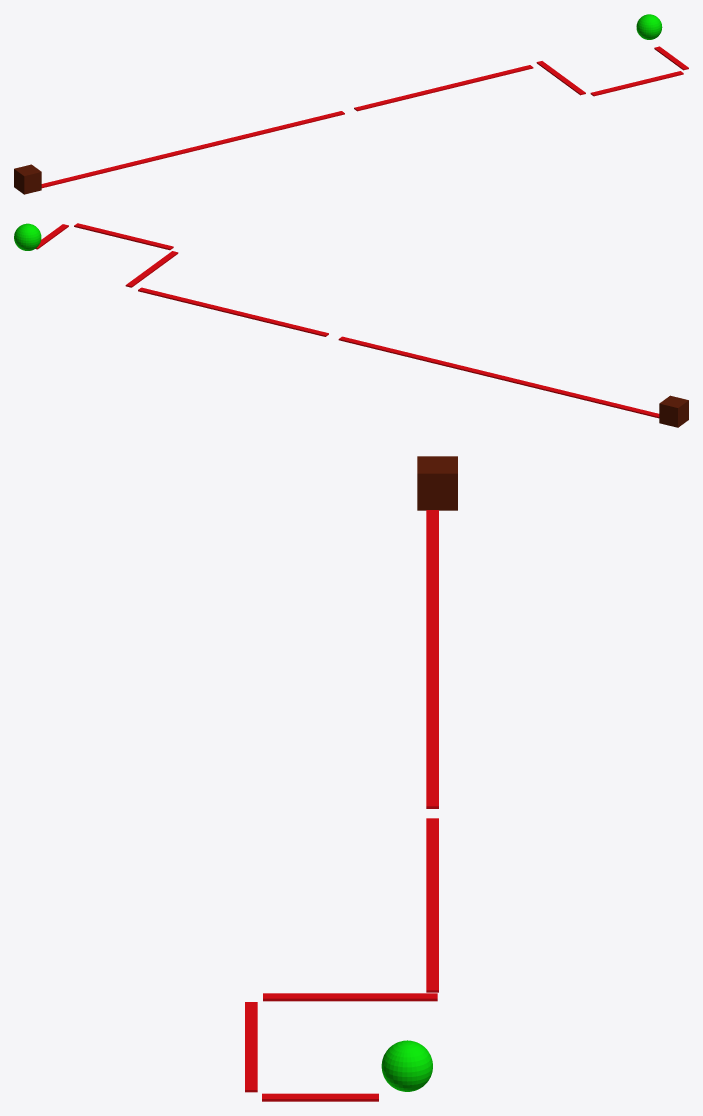
Rendered from BtoD104.glb.
The picture shows the model from 3 angles, top to bottom: view 1: azimuth 30°, elevation 25°; view 2: azimuth 150°, elevation 25°; view 3: azimuth 270°, elevation 25°; orthographic projection. The views are drawn at different scales.
Visible parts, largest first — view 1: B.006, B.004, D104, StartPoint, BtoCDE, B.005; view 2: B.006, B.004, D104, StartPoint, BtoCDE, B.005; view 3: B.006, B.004, D104, StartPoint, B.005, BtoCDE, B.
Part boxes in pixels (<box>): B.006: <box>41,111,344,188</box>; B.004: <box>354,65,533,111</box>; D104: <box>14,164,41,194</box>; StartPoint: <box>636,14,662,39</box>; BtoCDE: <box>590,71,683,96</box>; B.005: <box>536,61,585,95</box>; B.006: <box>338,336,659,418</box>; B.004: <box>138,287,328,336</box>; D104: <box>659,395,688,427</box>; StartPoint: <box>14,223,41,250</box>; BtoCDE: <box>74,223,173,250</box>; B.005: <box>125,251,178,287</box>; B.006: <box>426,510,438,808</box>; B.004: <box>426,818,438,992</box>; D104: <box>417,456,457,510</box>; StartPoint: <box>381,1040,432,1091</box>; B.005: <box>263,993,437,1001</box>; BtoCDE: <box>245,1002,257,1092</box>; B: <box>262,1093,378,1101</box>.
Bounding box in the file's own units: 1.32 × 0.0583 × 0.1926.
